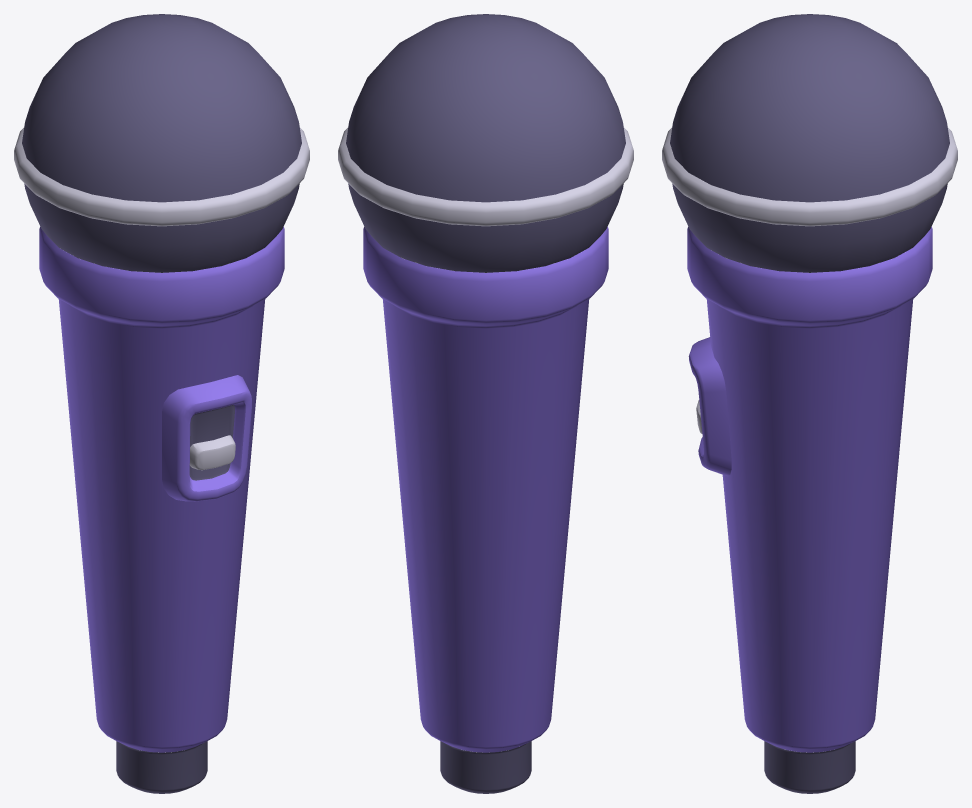
The picture shows the model from 3 angles, left to right: view 1: azimuth 30°, elevation 25°; view 2: azimuth 150°, elevation 25°; view 3: azimuth 270°, elevation 25°; orthographic projection.
Parts seen in each view (by area): view 1: mic; view 2: mic; view 3: mic.
Part boxes in pixels (bbox=[...]): mic: bbox=[14, 14, 309, 793]; mic: bbox=[338, 14, 633, 793]; mic: bbox=[662, 14, 957, 793].
Bounding box in the file's own units: 0.8222 × 2.31 × 0.8222.
